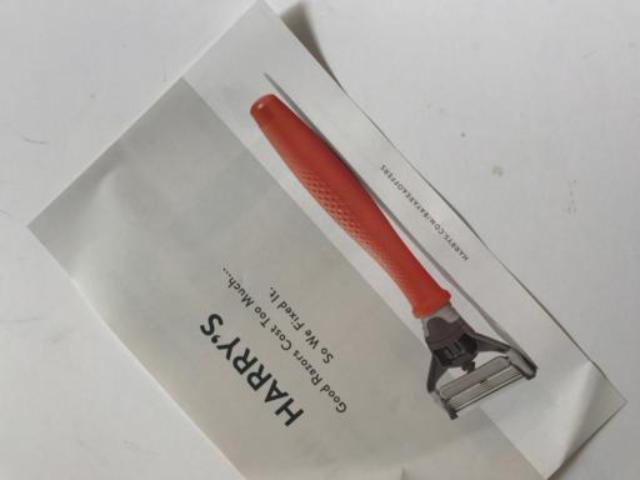cardboard paper: (29, 1, 622, 475)
